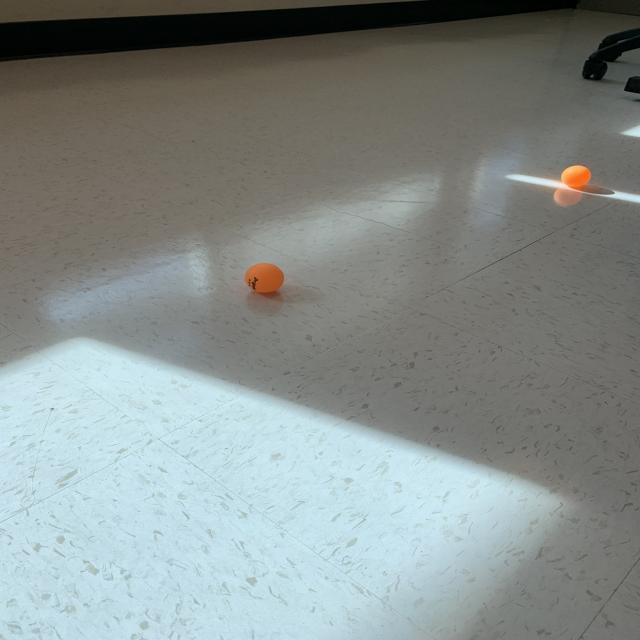ping-pong-ball: (240, 260, 286, 296), (558, 161, 594, 192)
